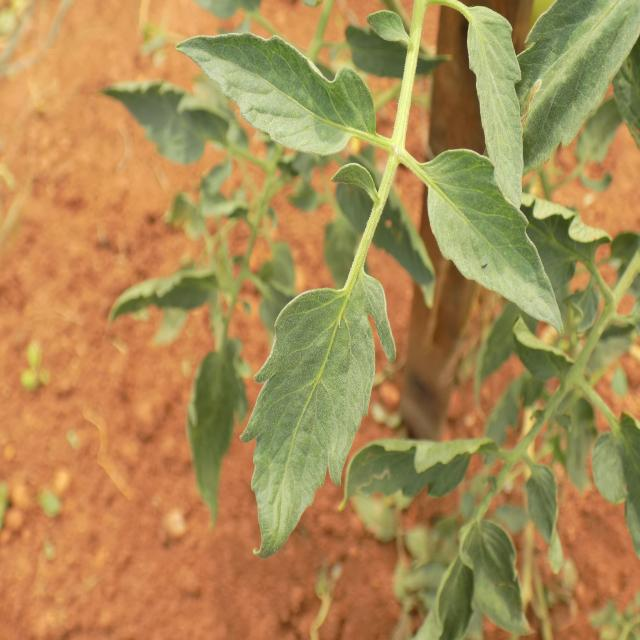tomato_healthy: (247, 272, 388, 556), (426, 153, 575, 330), (175, 28, 375, 159)
